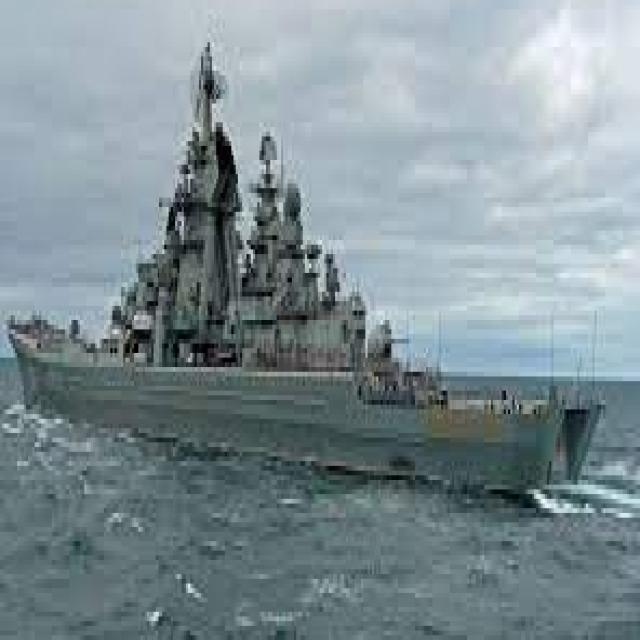navalvessels: (6, 49, 598, 517)
